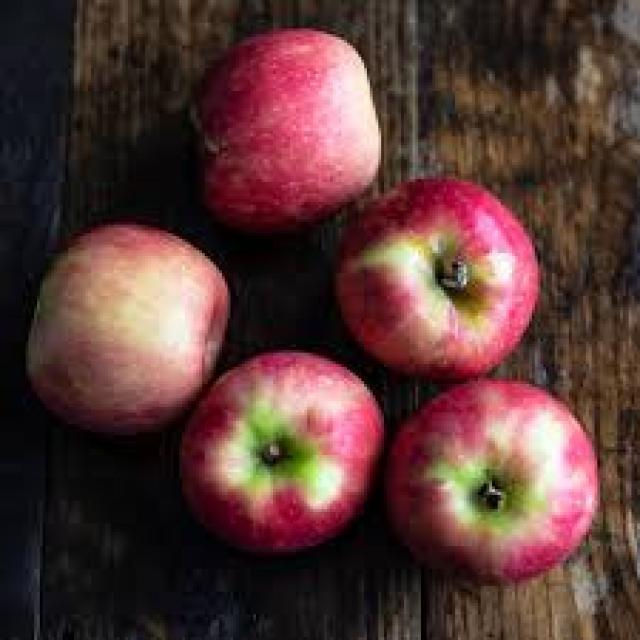Apple: (384, 375, 600, 586), (22, 219, 230, 435), (176, 347, 384, 555), (332, 174, 540, 378), (191, 25, 381, 234)
